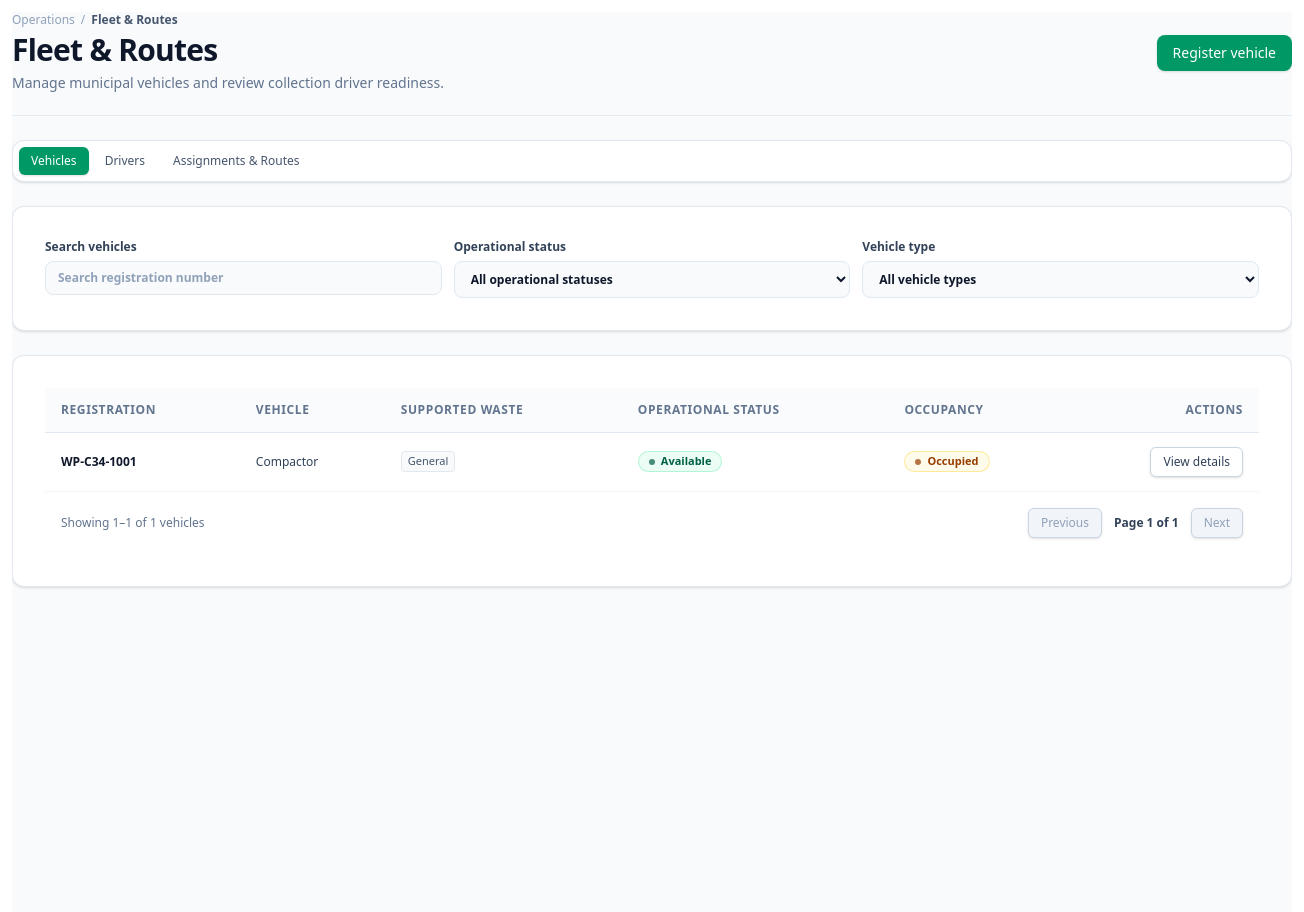
ManagerFleetRoutesPage › displays operational status separately from assignment occupancy and fetches detail on demand
expect the text "Occupied" is shown: met, box [904, 451, 990, 472]
expect the text "Manage municipal vehicles and review collection driver readiness" is shown: met, box [12, 73, 444, 92]
Click the button "View details". click: [1197, 462]
box: [1150, 447, 1243, 477]
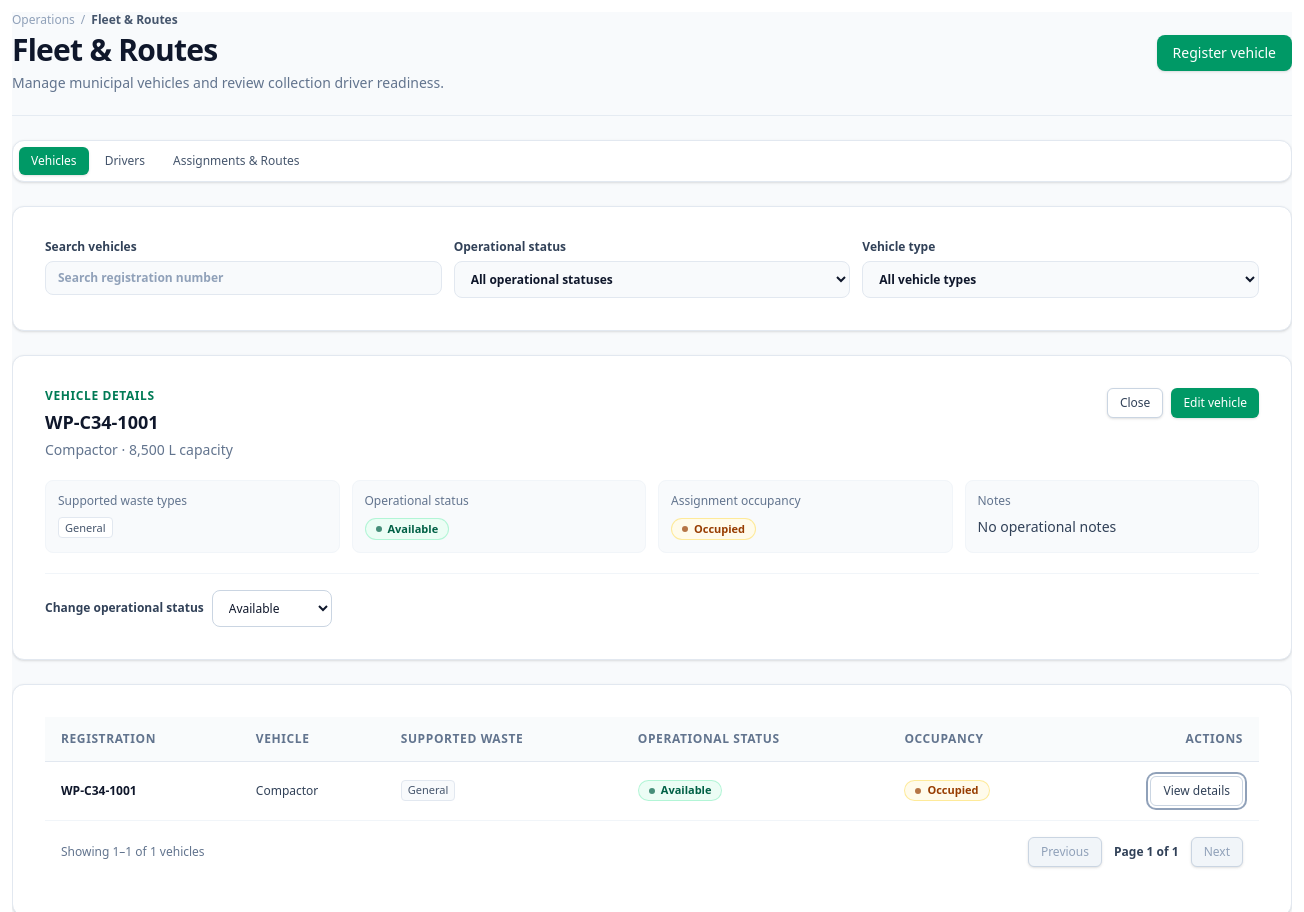
expect the text "Compactor · 8,500 L capacity" is shown: met, box [45, 440, 233, 460]
expect the text "Assignment occupancy" is shown: met, box [671, 492, 800, 509]
